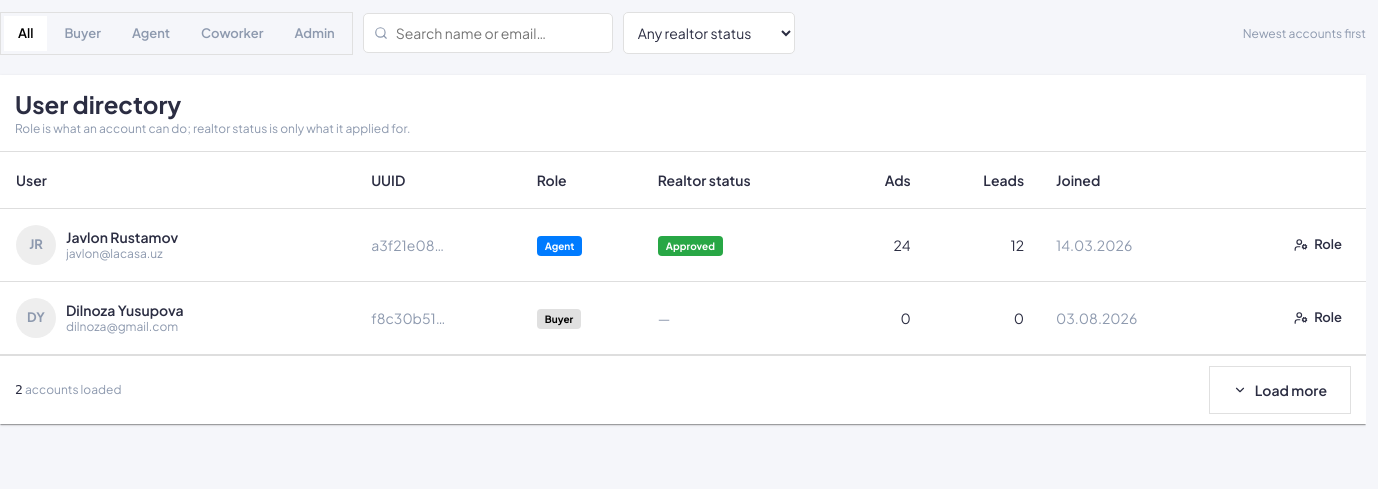
Test case: UsersScreen › pages with the cursor the server handed back, never a constructed one
The width and height of the screenshot is (1378, 489).
expect the text "Javlon Rustamov" is shown: met, box [66, 228, 178, 246]
Click the button "Load more" at (1280,390), box [1209, 366, 1351, 414]
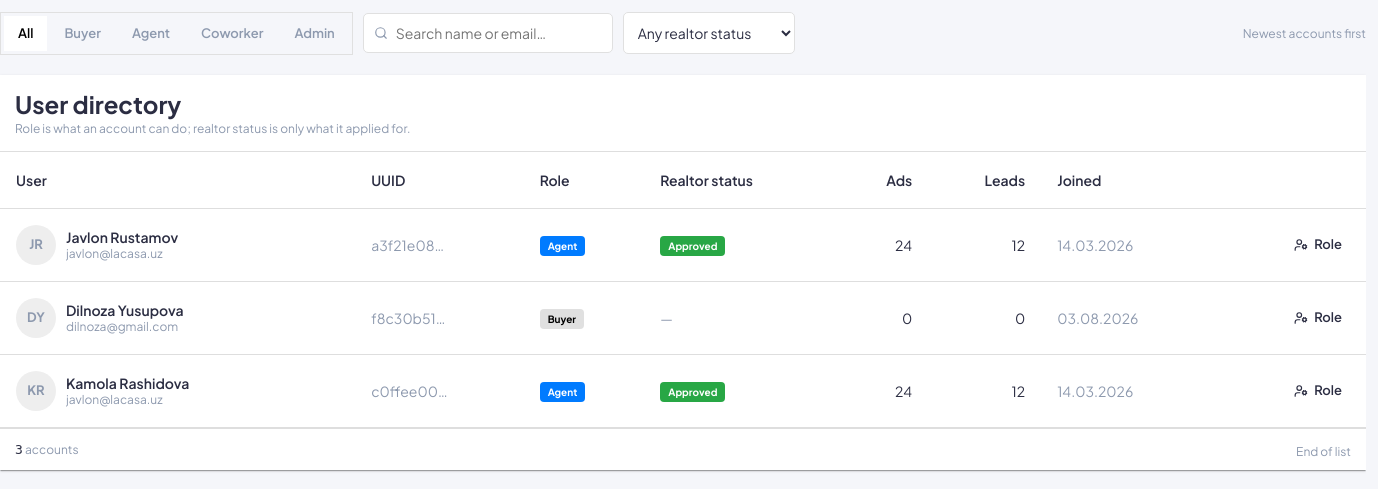
expect the text "Javlon Rustamov" is shown: met, box [66, 228, 178, 246]
expect the text "Kamola Rashidova" is shown: met, box [66, 374, 189, 392]
